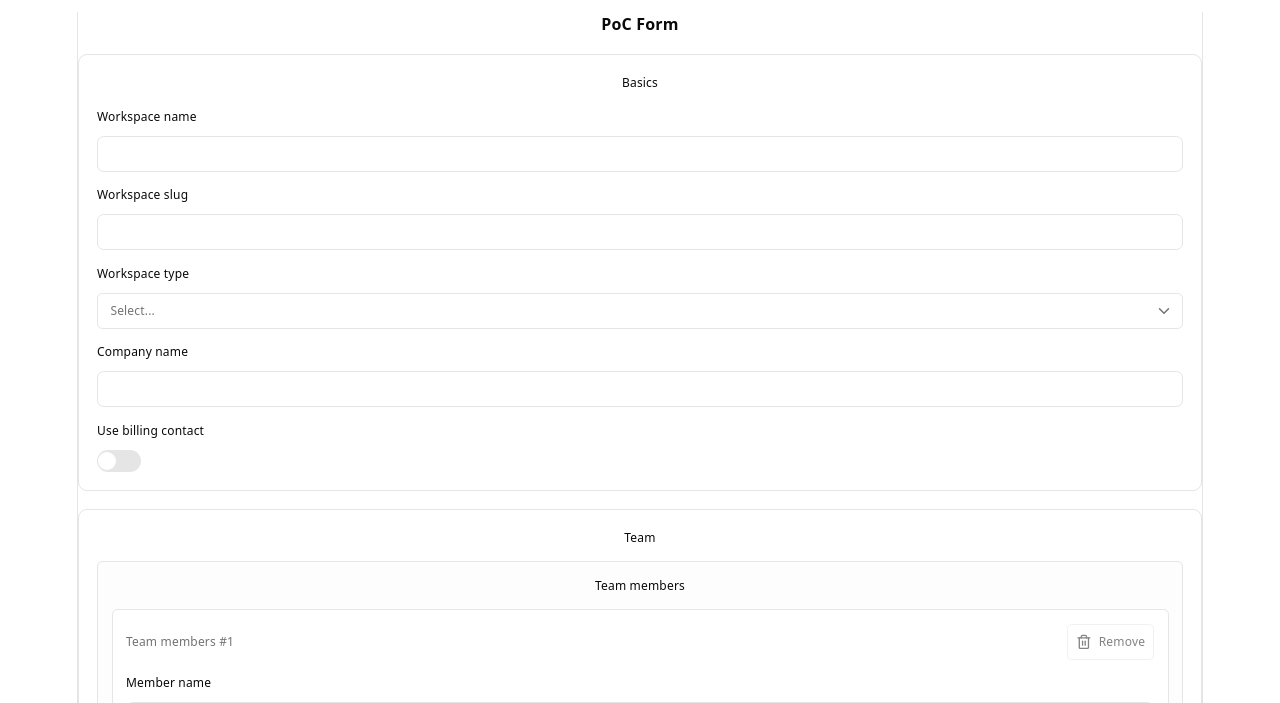
it: SchemaForm › syncs derived values from their dependencies
Type "Acme Design" into the field labelled "Workspace name".
click(640, 154); type("Acme Design")  # box [97,136,1183,172]
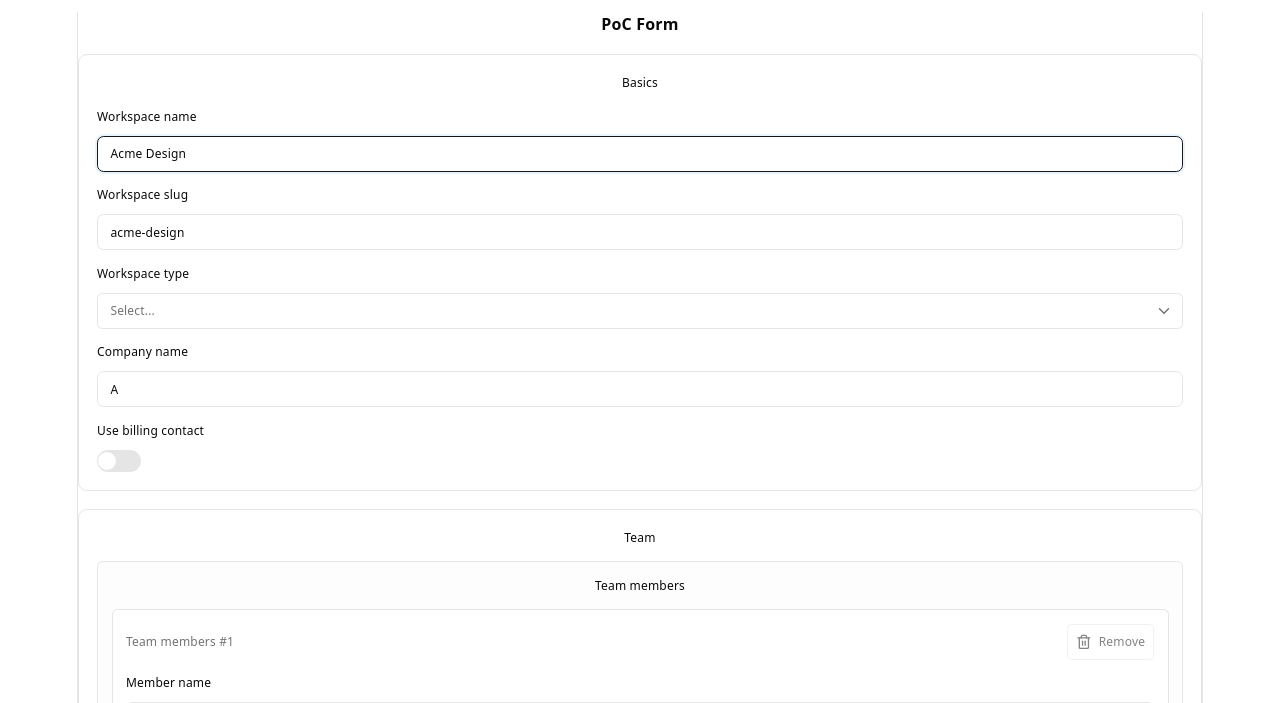
expect the field showing "acme-design" is shown: met, box [97,214,1183,250]
